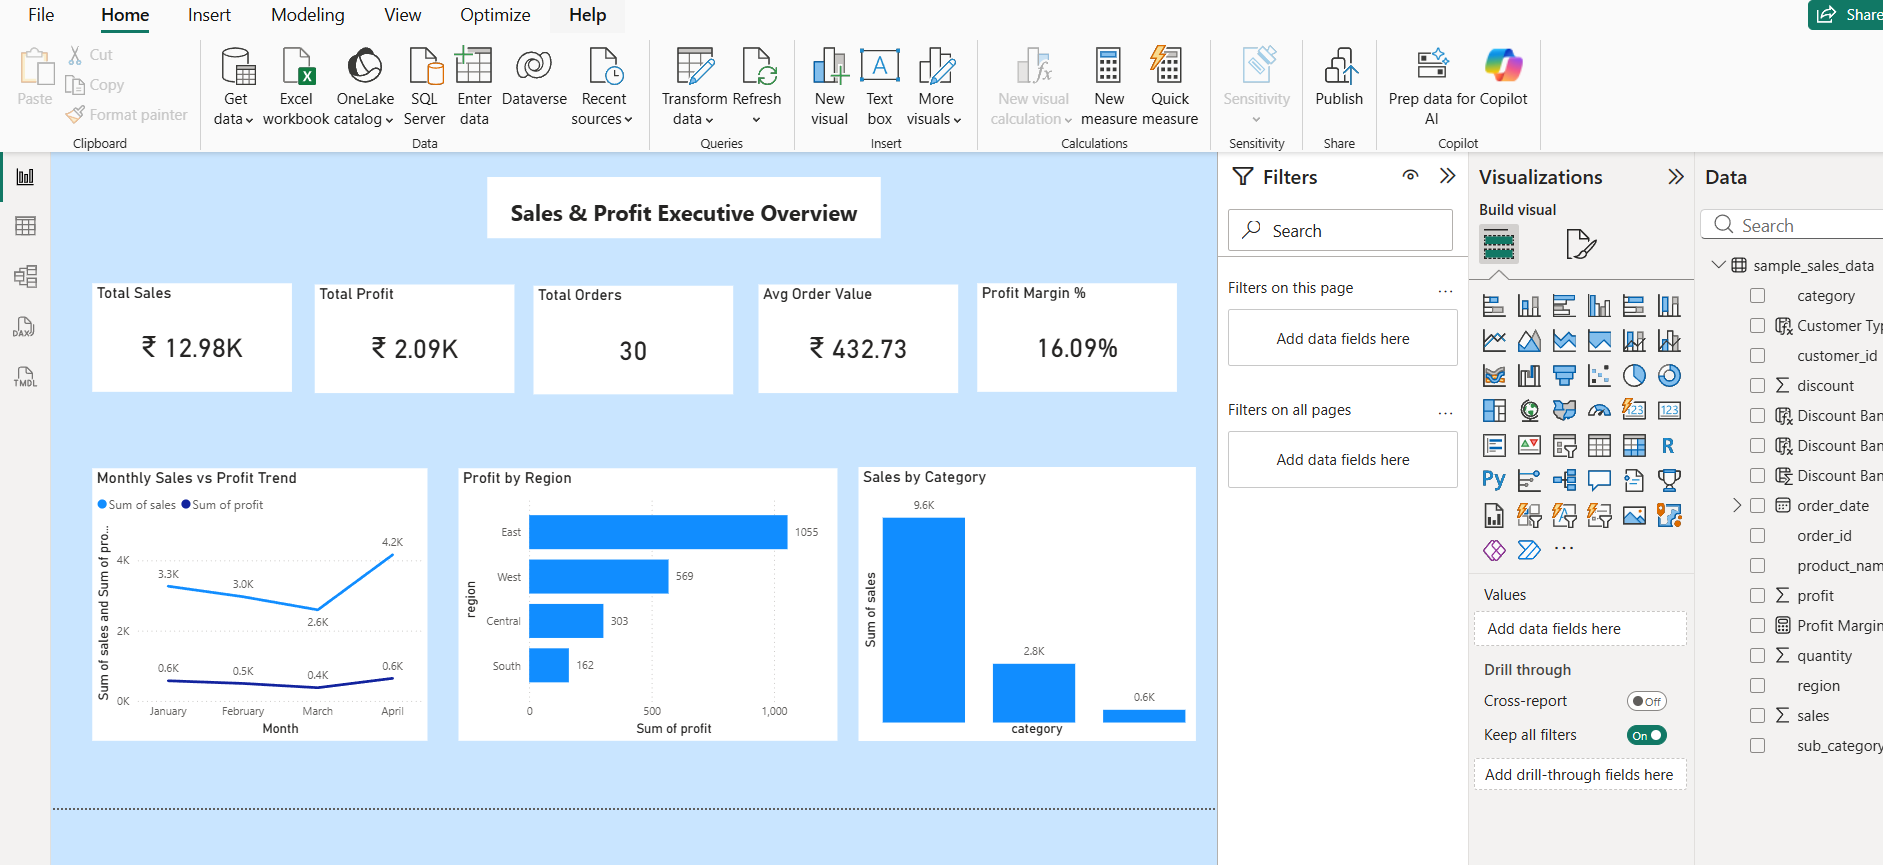

Layout of this report page (visuals, bound fields, positions):
{"tool":"powerbi","page":{"name":"Sales & Profit Executive Overview","canvas":[1280,720],"ordinal":0},"visuals":[{"type":"card","title":"Total Sales","fields":{"Values":["Sum(sample_sales_data.sales)"]},"box":[45.3,144.1,219.6,119.4],"z":0},{"type":"card","title":"Total Profit","fields":{"Values":["Sum(sample_sales_data.profit)"]},"box":[289.5,145.5,219.6,119.4],"z":1000},{"type":"card","title":"Total Orders","fields":{"Values":["Count(sample_sales_data.order_id)"]},"box":[529.7,146.8,219.6,119.4],"z":2000},{"type":"card","title":"Avg Order Value","fields":{"Values":["Avg(sample_sales_data.sales)"]},"box":[776.7,145.5,219.6,119.4],"z":3000},{"type":"card","title":"Profit Margin %","fields":{"Values":["sample_sales_data.Profit Margin %"]},"box":[1016.8,144.1,219.6,119.4],"z":4000},{"type":"textbox","box":[478.9,27.4,432.2,67.2],"z":5000},{"type":"lineChart","title":"Monthly Sales vs Profit Trend","fields":{"Category":["sample_sales_data.order_date.Variation.Date Hierarchy.Month"],"Y":["Sum(sample_sales_data.sales)","Sum(sample_sales_data.profit)"]},"box":[45.3,347.2,367.8,299.1],"z":6000},{"type":"clusteredColumnChart","title":"Sales by Category","fields":{"Category":["sample_sales_data.category"],"Y":["Sum(sample_sales_data.sales)"]},"box":[886.5,345.8,370.5,300.5],"z":7000},{"type":"clusteredBarChart","title":"Profit by Region","fields":{"Category":["sample_sales_data.region"],"Y":["Sum(sample_sales_data.profit)"]},"box":[447.3,347.2,415.8,299.1],"z":8000}]}

Visuals, with their boxes on the page's 1280x720 design canvas (x1, y1, x2, y2). These are canvas units, not pixel positions in the 1883x865 screenshot, which may show the page scaled, cropped or inside an application window:
"Total Sales" card: (45,144,265,264)
"Total Profit" card: (290,146,509,265)
"Total Orders" card: (530,147,749,266)
"Avg Order Value" card: (777,146,996,265)
"Profit Margin %" card: (1017,144,1236,264)
textbox: (479,27,911,95)
"Monthly Sales vs Profit Trend" lineChart: (45,347,413,646)
"Sales by Category" clusteredColumnChart: (886,346,1257,646)
"Profit by Region" clusteredBarChart: (447,347,863,646)
